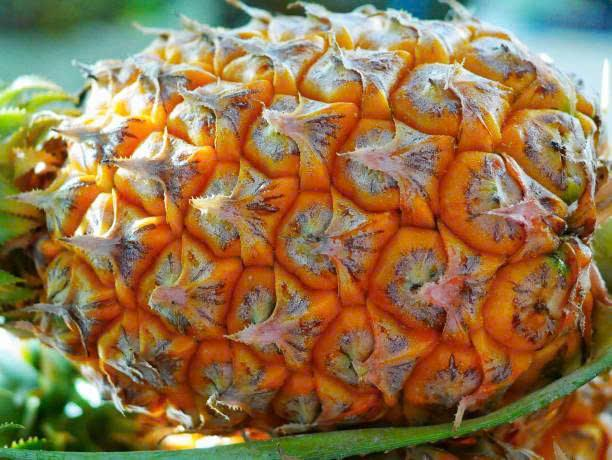pineapple: (23, 34, 612, 424)
